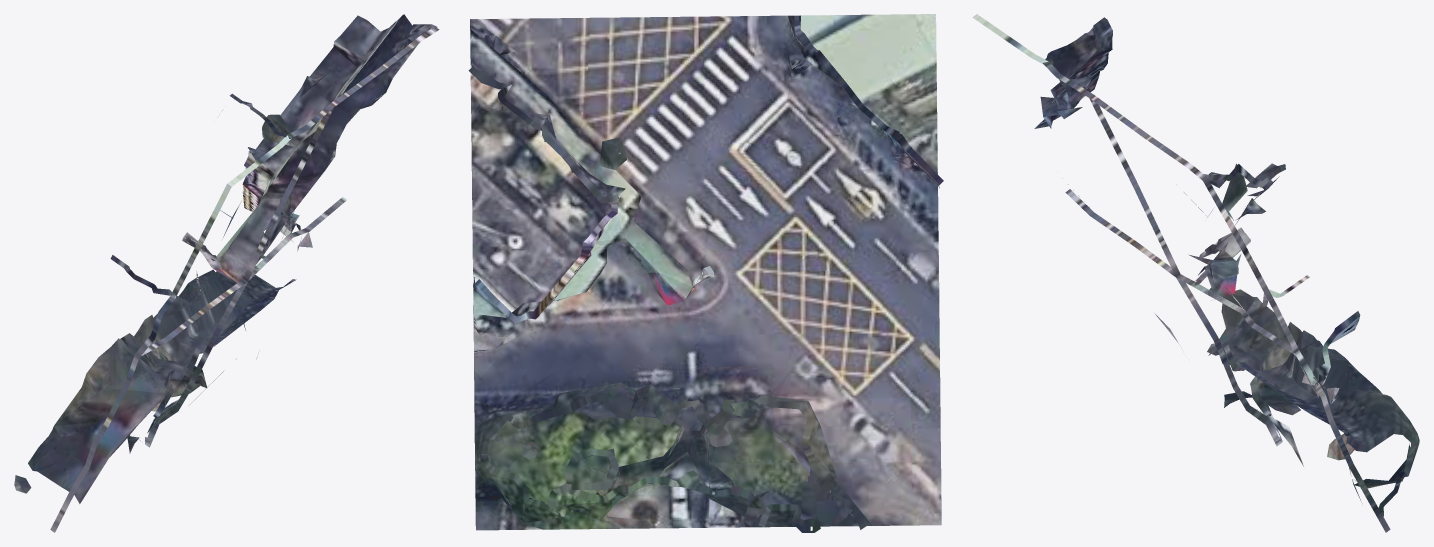
3 renders of one model, left to right at view 1: azimuth 30°, elevation 25°; view 2: azimuth 150°, elevation 25°; view 3: azimuth 270°, elevation 25°, orthographic. The views are drawn at different scales.
Bounding box in the file's own units: 39.08 × 37.09 × 34.71.
Materials: 2 (2 with a texture image).
